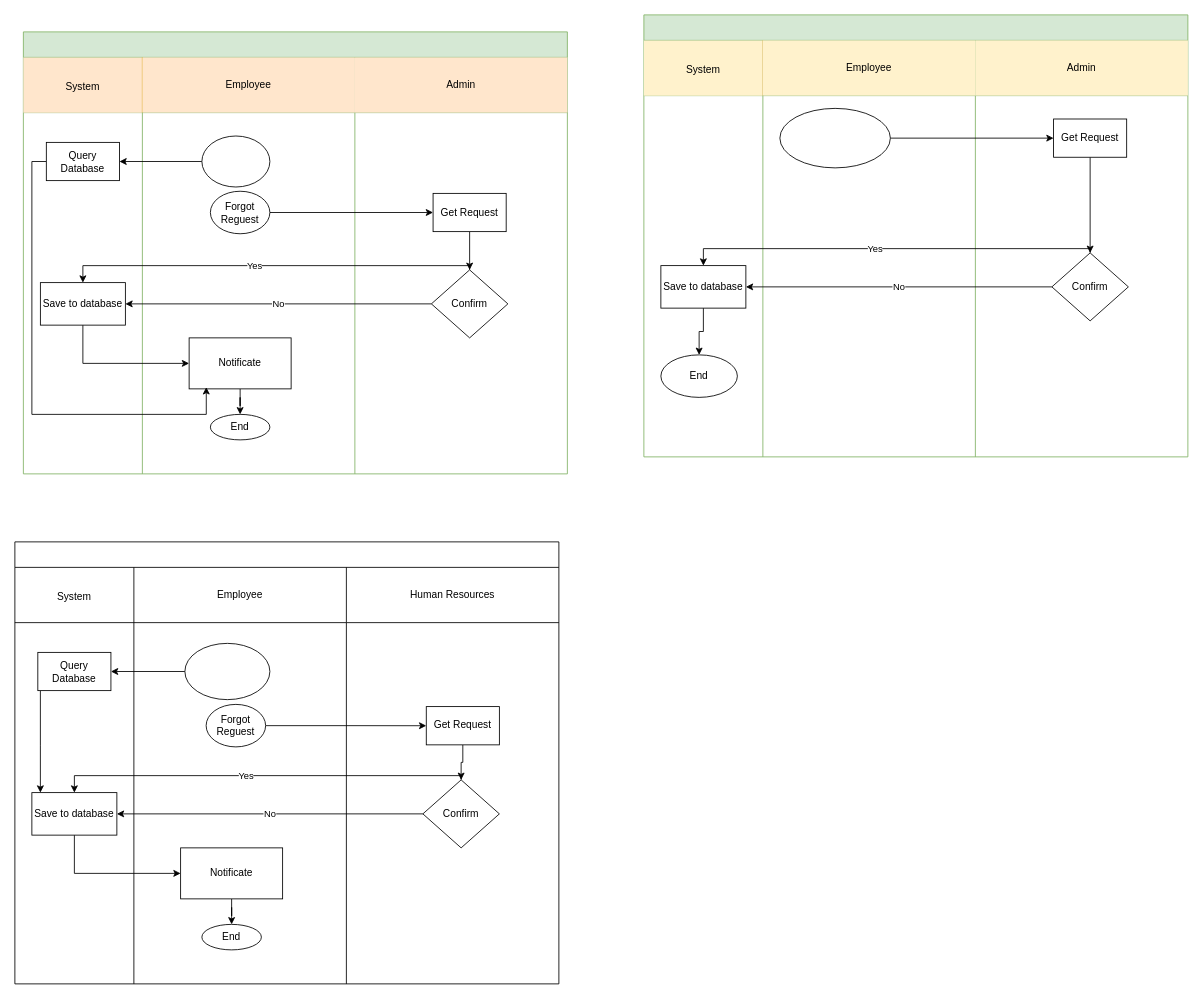
Image size: 1203x999. Some labels were removed from this diagram. The box of each missing label's shape, as (x1, y1, x2, y2) in pixels:
Change Employee Information: (643, 14, 1188, 457)
Change Information Reguest: (779, 108, 890, 168)
Login: (201, 135, 270, 187)
Login/Forgot password: (23, 31, 567, 474)
Shift Management: (14, 541, 559, 984)
Take Attendance: (184, 643, 270, 700)
